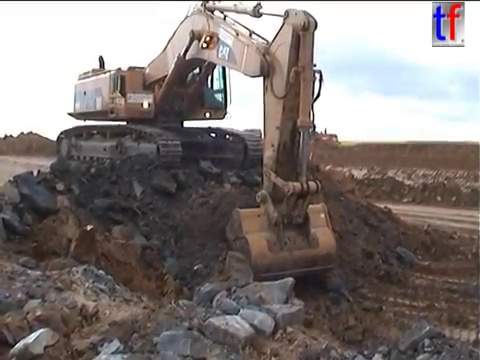excavator: (52, 1, 341, 286)
wheel loader: (278, 120, 339, 154)
